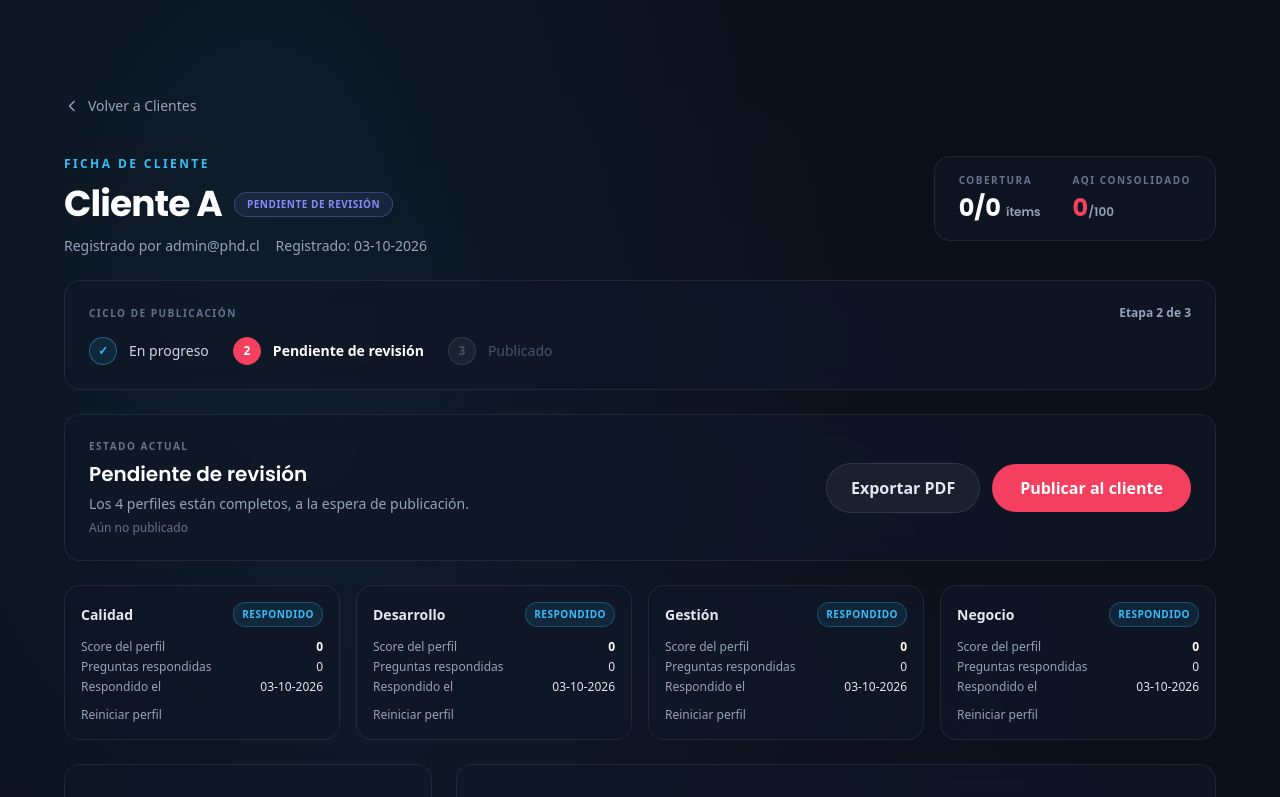
Test case: PublishReviewView › 409 al confirmar: muestra el mensaje del servidor y el botón sigue habilitado
The width and height of the screenshot is (1280, 797).
Step 1. Click the button "Publicar al cliente" → (1092, 488), box [992,464,1191,512]
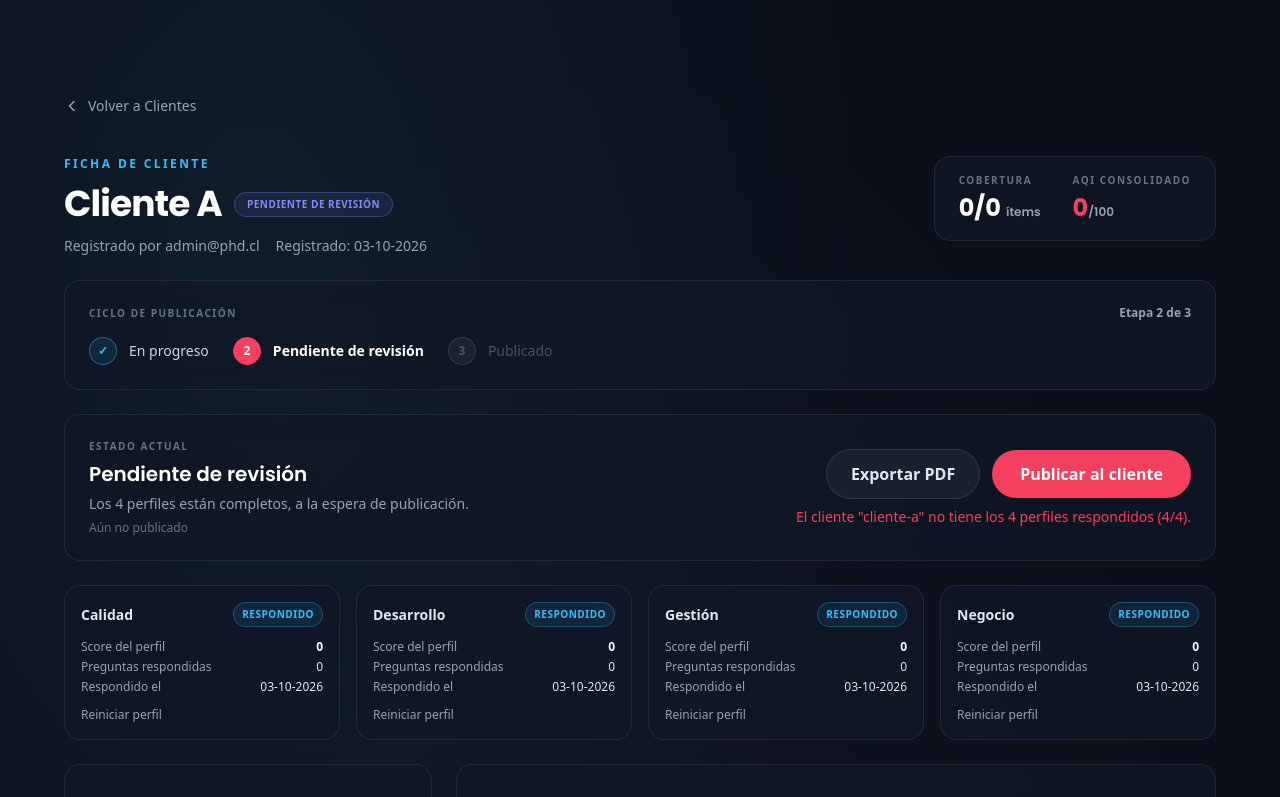
Expected: the button "Publicar al cliente" is enabled, [992,450,1191,498]
Result: the message reads "El cliente \"cliente-a\" no tiene los 4 perfiles respondidos (4/4)." at [796,506,1191,526]
